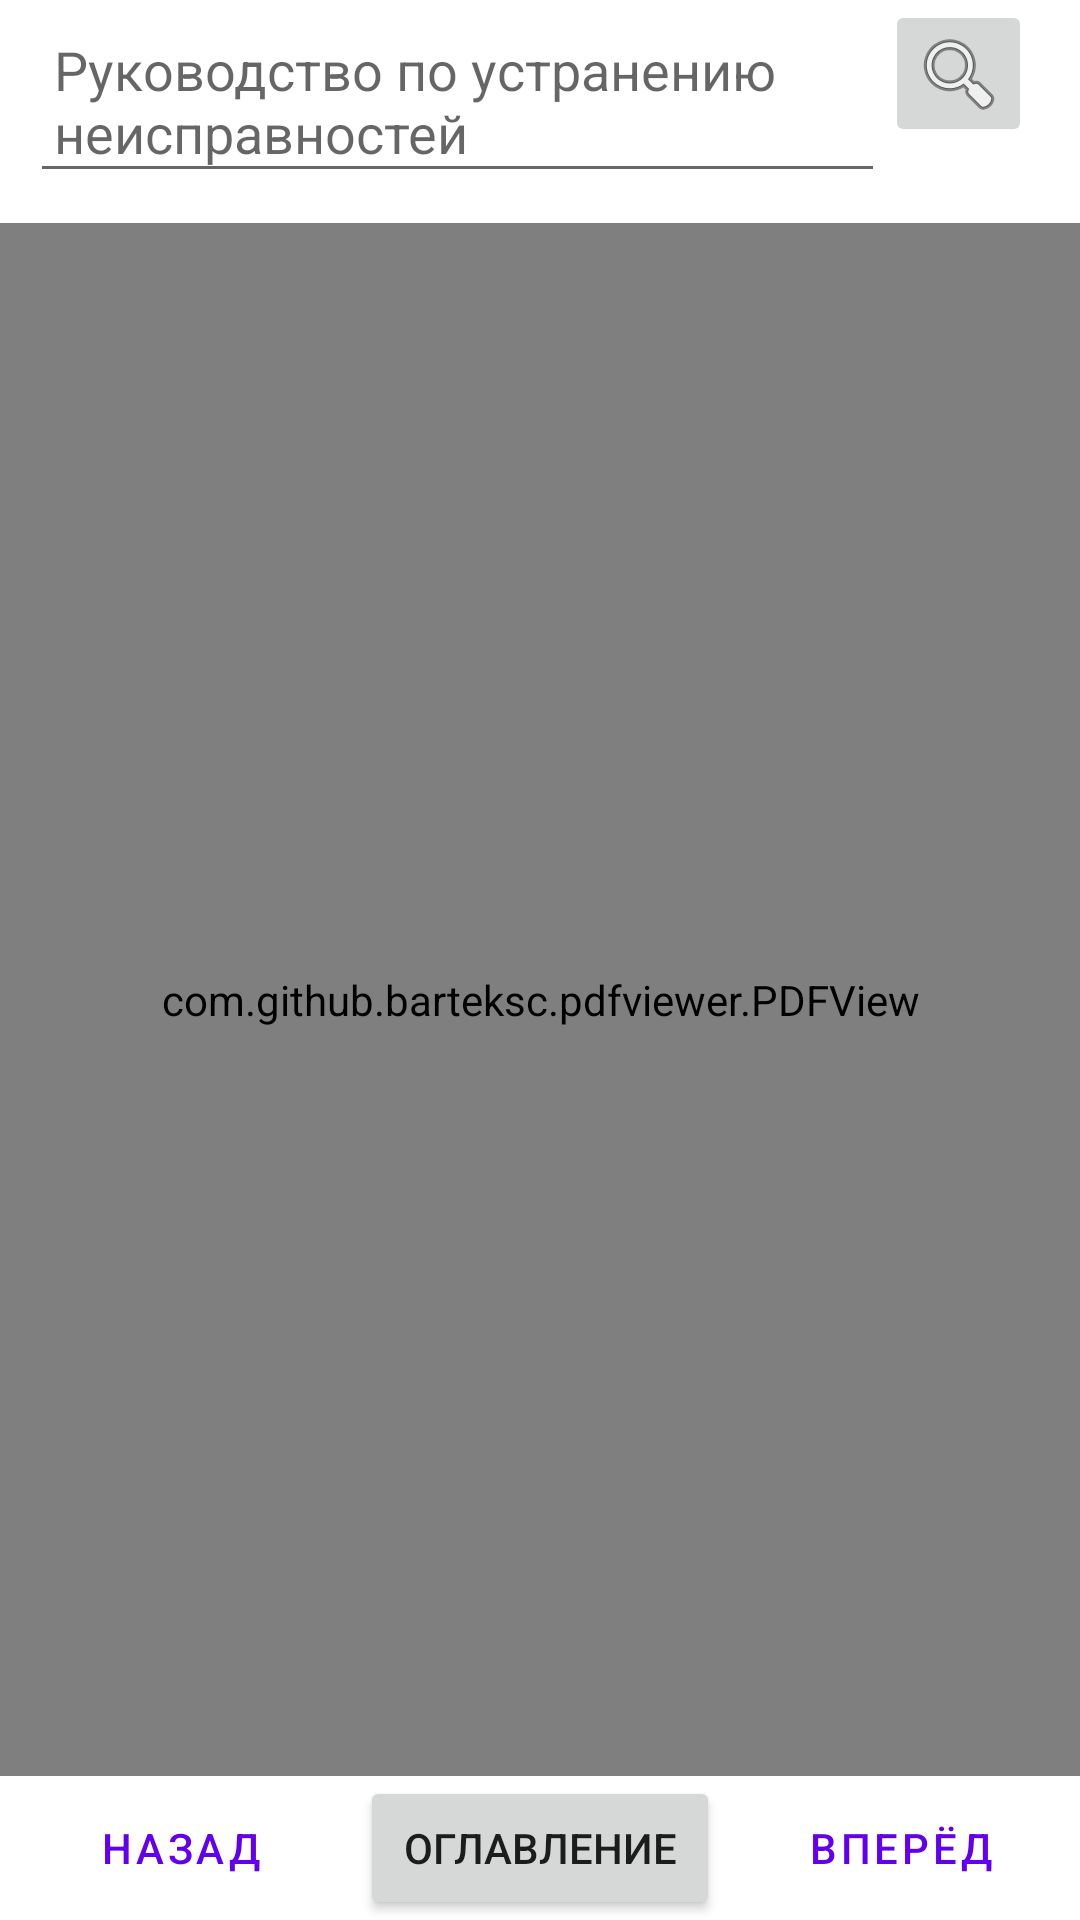

Icon click points for this 1080px x 1920px phone screenshot, format point (x, y):
search: point (958, 73)
